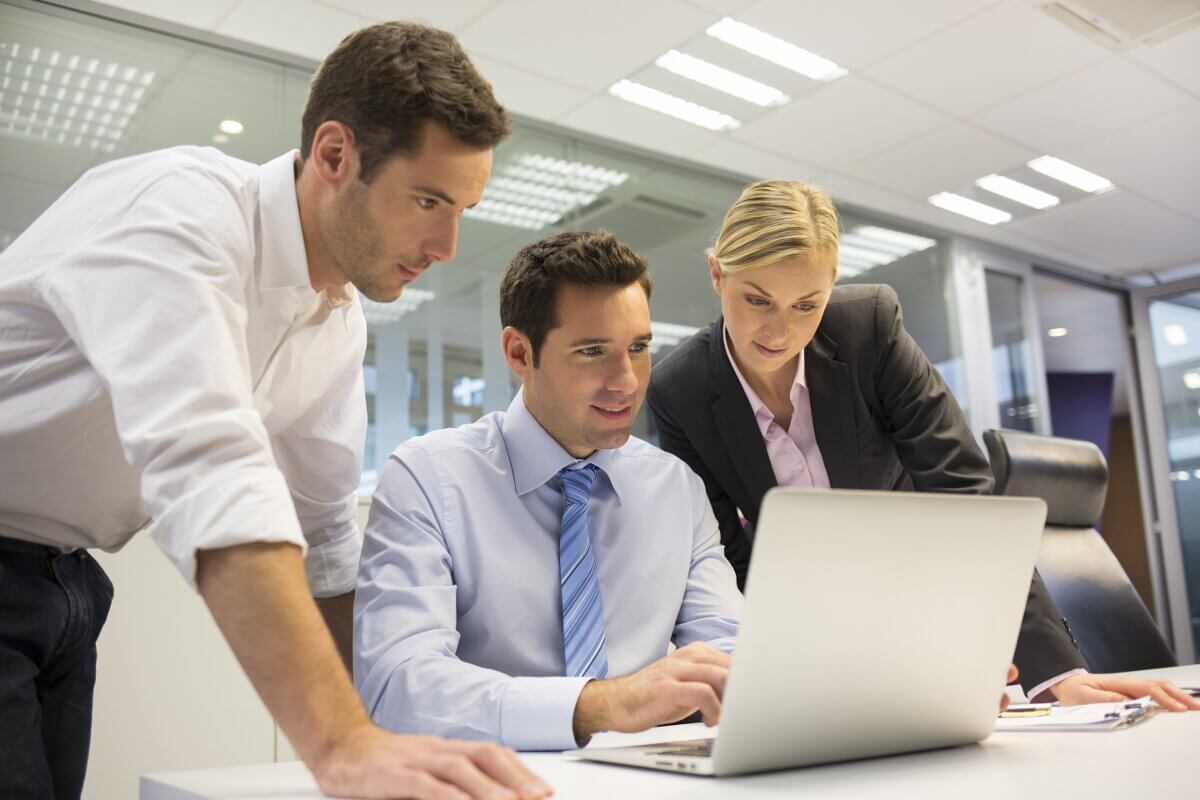Person: (1, 20, 556, 800), (649, 176, 1200, 800), (354, 228, 745, 800)
